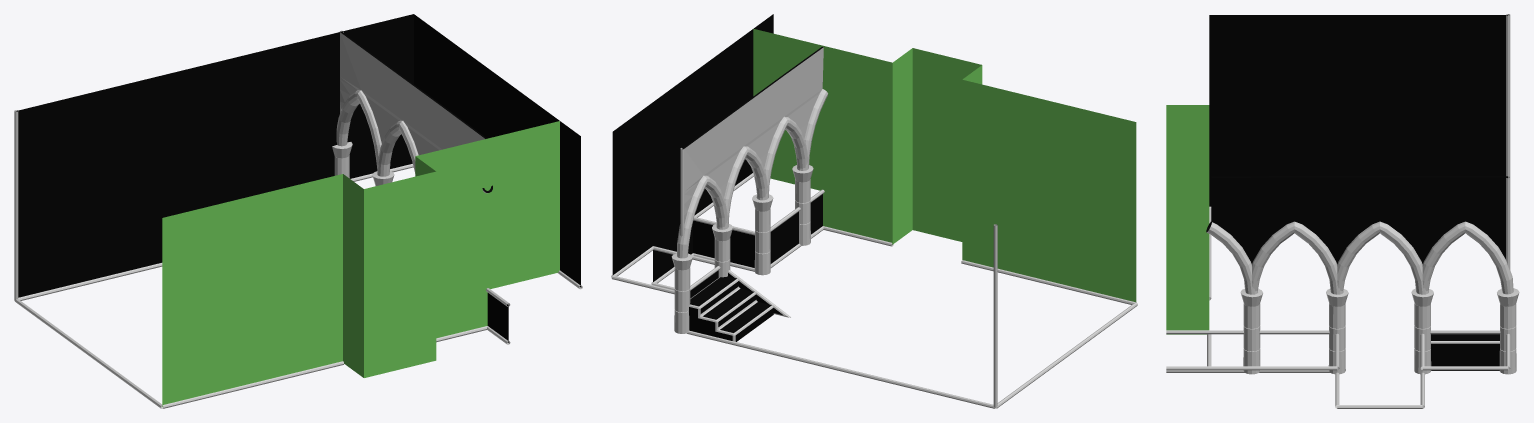
Rendered from NEON_TEST.fbx.
3 views of the same model, side by side, from view 1: azimuth 30°, elevation 25°; view 2: azimuth 150°, elevation 25°; view 3: azimuth 270°, elevation 25° (orthographic). The views are drawn at different scales.
Visible parts, largest first — view 1: Cube.013; view 2: Cube.013; view 3: Cube.013.
Boxes of the visible parts, box(x1,y1,x2,y2) form: Cube.013: box(14, 14, 582, 408); Cube.013: box(611, 14, 1137, 408); Cube.013: box(1166, 14, 1519, 408).
Bounding box in the file's own units: 11.1 × 5.05 × 8.27.
